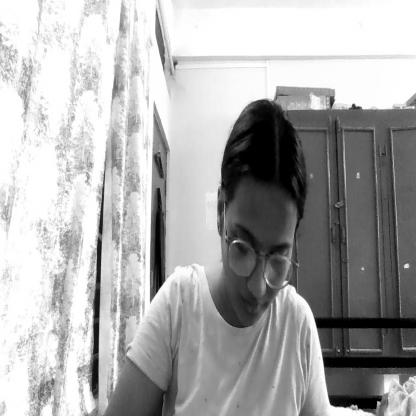Distracted: (217, 123, 298, 330)
